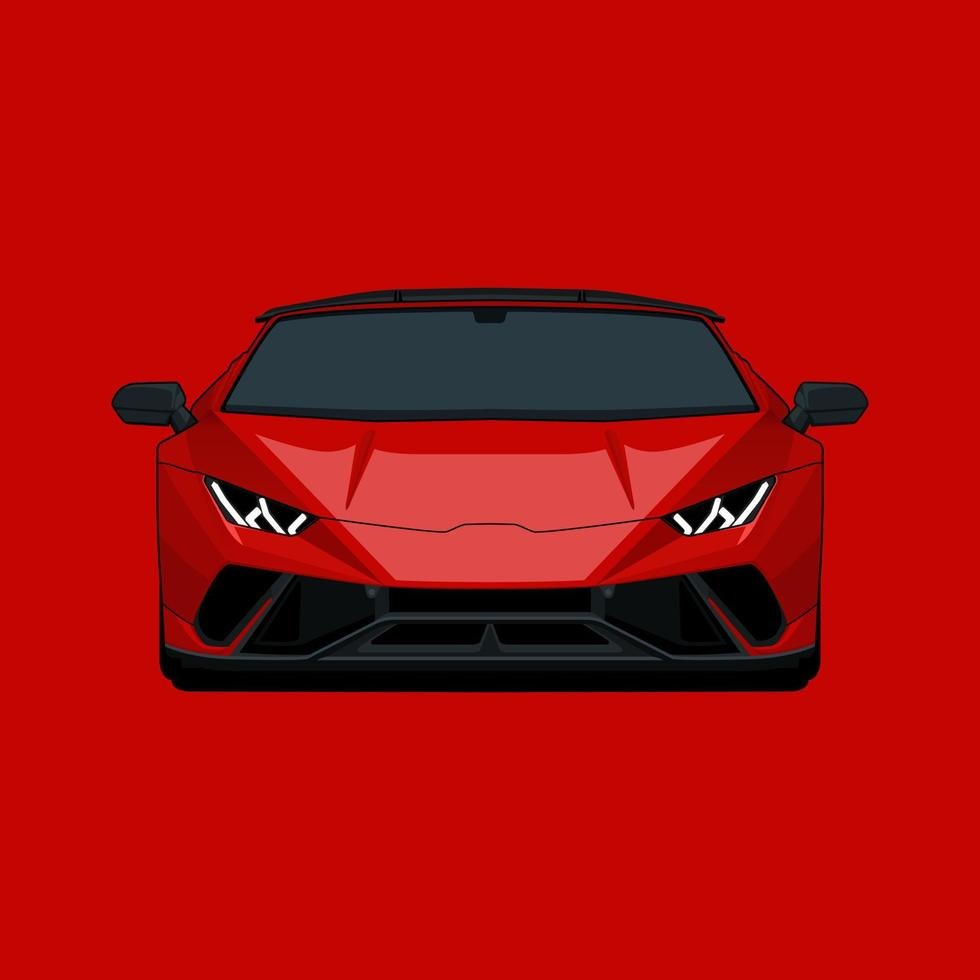car: (125, 288, 869, 718)
